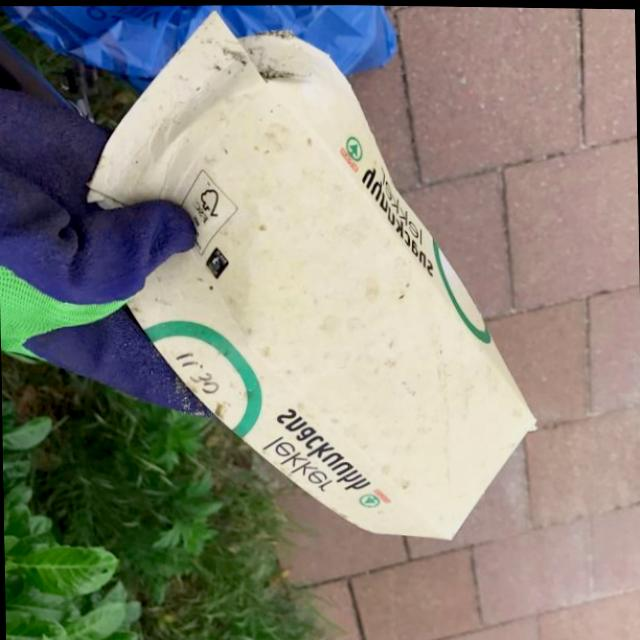Paper: (80, 1, 542, 549)
